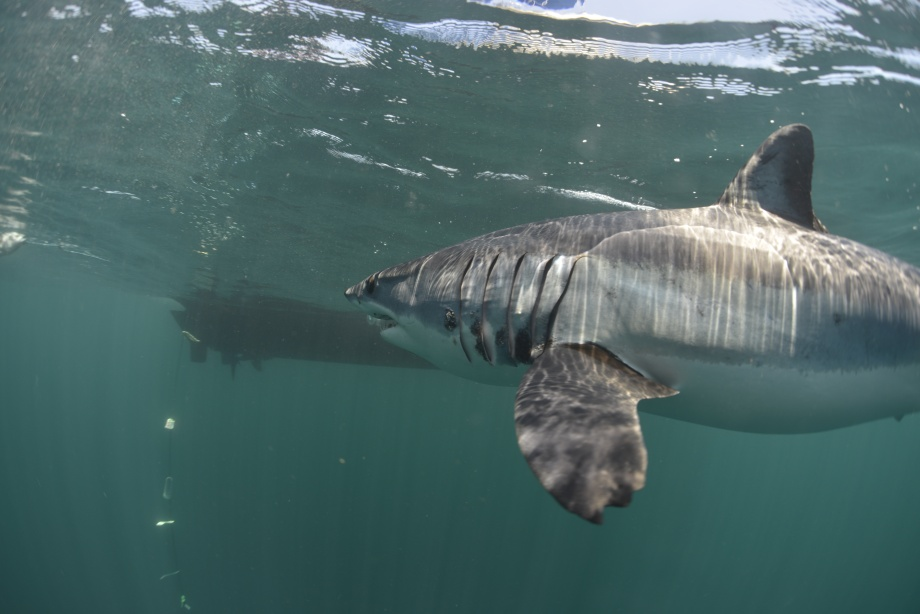Mako: (337, 115, 920, 524)
